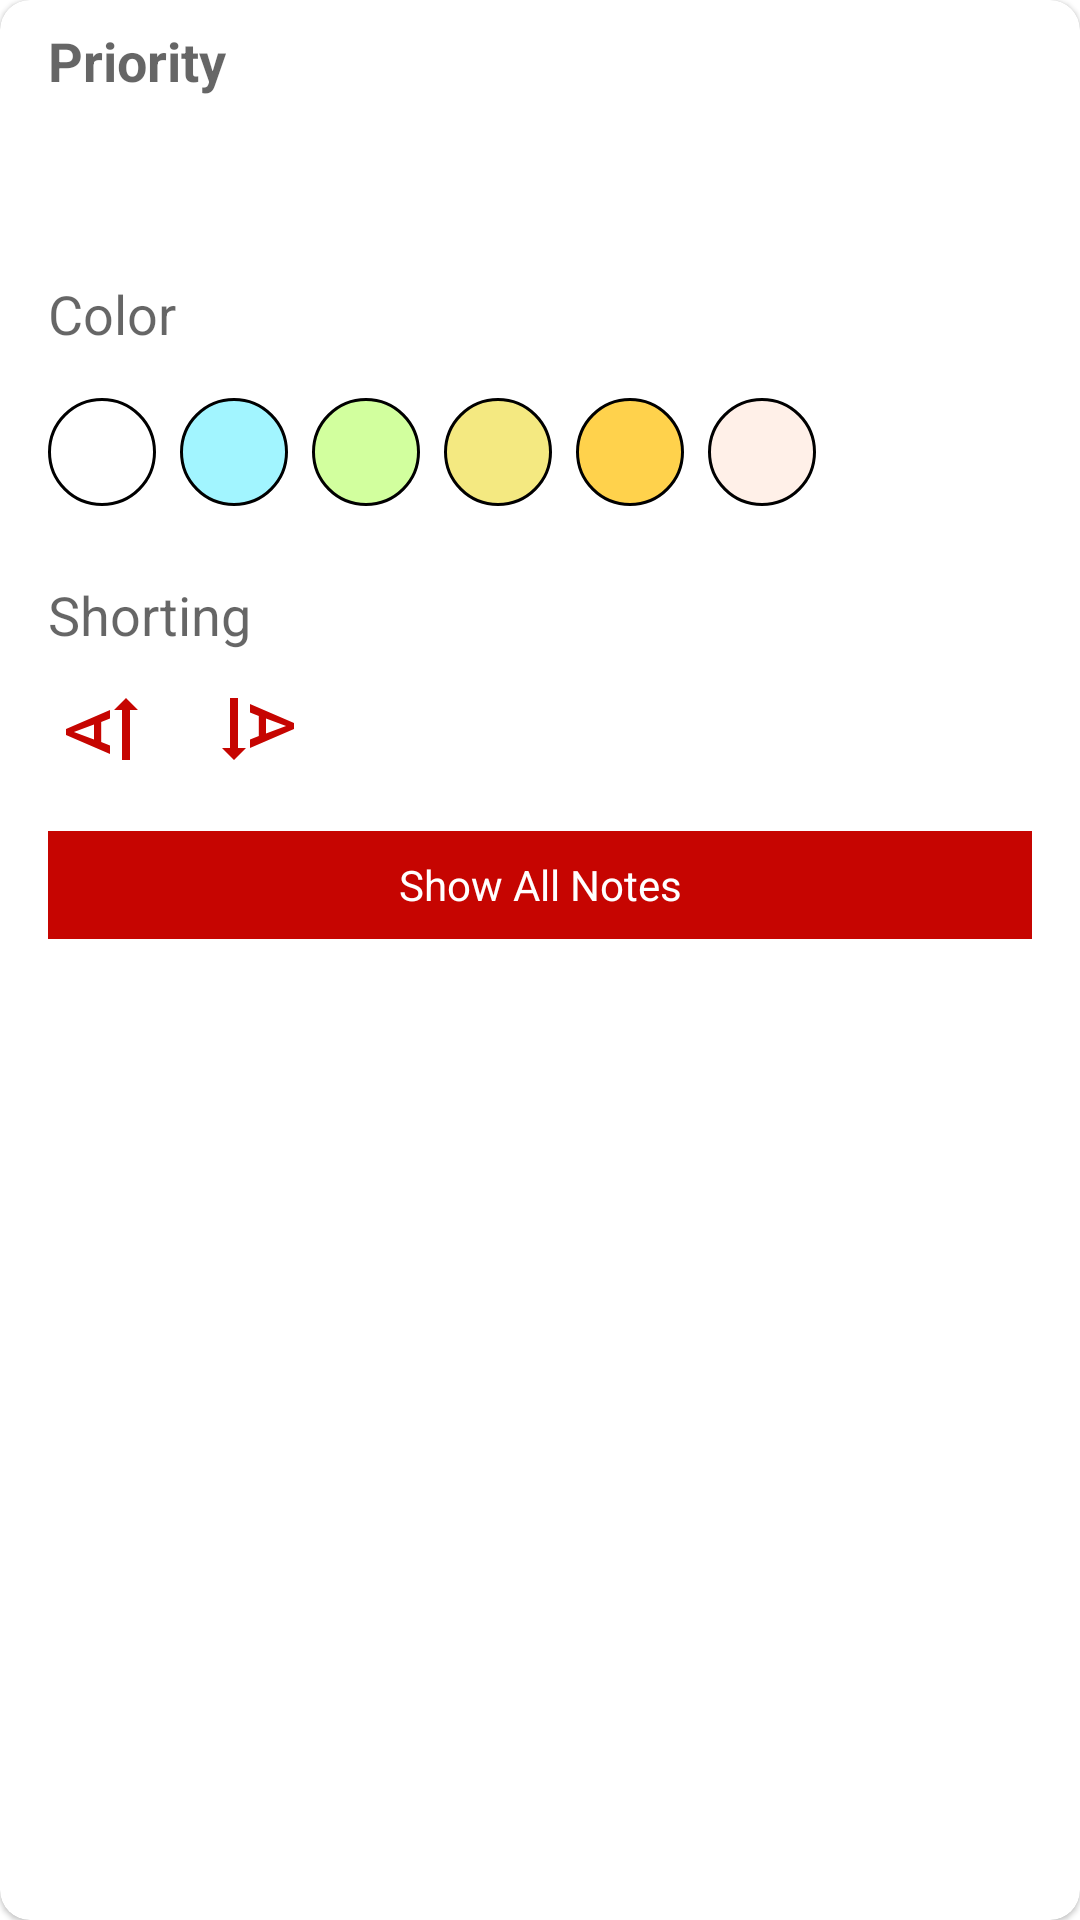

Screen size 1080px×1920px. Icon name, then its box in pixels as (x1, y1, x2, y2):
asc: (66, 698, 138, 760)
desc: (222, 698, 294, 760)
